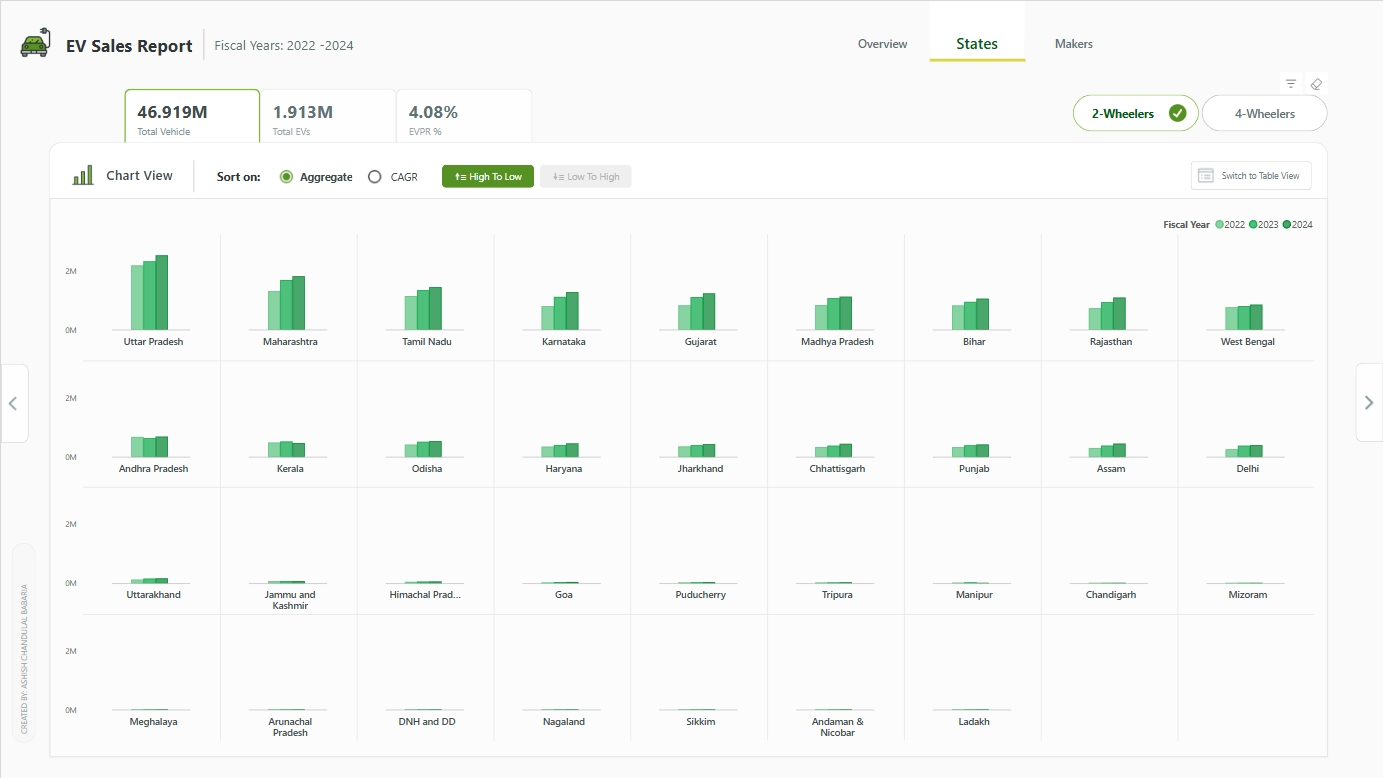

What the dashboard file says about the page in this screenshot:
{"tool":"powerbi","page":{"name":"States-2","canvas":[1920,1080],"ordinal":2},"visuals":[{"type":"advancedSlicerVisual","title":"Slicer :Total Sales/EV Sales/EVPR%","fields":{"Values":["Total Sales/EV Sales/EVPR%.Total Sales/EV Sales/EVPR%"]},"box":[171,116,568,88],"z":0},{"type":"clusteredColumnChart","title":"CAGR Total Vehicles Sold by States","fields":{"Rows":["electric_vehicle_sales_by_state.state"],"Y":["KPIs.CAGR"]},"box":[67,274.3,1776,777.1],"z":0,"group":"g1"},{"type":"shape","title":"Container Frame","box":[66.7,196.7,1776.7,853.3],"z":1000},{"type":"actionButton","title":"Aggregate Radio Button","box":[380,228,112,32],"z":1000,"group":"g1"},{"type":"actionButton","box":[1290,36.3,131.4,48.6],"z":2000},{"type":"actionButton","title":"Aggregate Radio Button","box":[502,228,80,32],"z":2000,"group":"g1"},{"type":"shape","box":[1290,70.6,132.9,24.3],"z":3000},{"type":"shape","box":[1290,0,131.7,45],"z":4000},{"type":"actionButton","title":"Button Next","box":[1882,502.5,38.8,110],"z":5000},{"type":"advancedSlicerVisual","title":"Slicer: Vehicle Category","fields":{"Values":["Dim_Vehicle_type.Decription"]},"box":[1488.3,130,355,51.7],"z":6000},{"type":"actionButton","title":"Button Previous","box":[0,503.3,38.3,110],"z":7000},{"type":"group","id":"g1","title":"CAGR by State Chart ","box":[67,228,1776,823.4],"z":8000},{"type":"advancedSlicerVisual","title":"Slicer: SORT_Order","fields":{"Values":["0201_SORT Order.SORT_Order"]},"box":[612,228,264,32],"z":10000},{"type":"shape","title":"Label :Sort Order","box":[300,218,72,50],"z":11000},{"type":"image","box":[90,218.3,48.3,45],"z":12000},{"type":"shape","box":[146.7,221.7,116.7,40],"z":13000},{"type":"actionButton","box":[1652,222,168,40],"z":14000},{"type":"actionButton","box":[1158.8,33.8,131.2,48.8],"z":15000},{"type":"actionButton","box":[1425.6,33.3,130,48.9],"z":16000},{"type":"actionButton","box":[15,752,33,278],"z":17000},{"type":"shape","box":[261.4,221.2,12.9,44.3],"z":18000},{"type":"shape","box":[90,41.7,185,36.7],"z":19000},{"type":"image","box":[15,31.2,65,51.7],"z":20000},{"type":"shape","box":[296.7,41.7,268.3,36.7],"z":21000},{"type":"shape","box":[275,38.3,13.3,43.3],"z":22000}]}

Visuals, with their boxes in screenshot pixels (x1, y1, x2, y2), scaled from the page's 1920x1080 canvas onto the 1383x778 screenshot:
"Slicer :Total Sales/EV Sales/EVPR%" advancedSlicerVisual: box(123, 84, 532, 147)
"CAGR Total Vehicles Sold by States" clusteredColumnChart: box(48, 198, 1328, 757)
"Container Frame" shape: box(48, 142, 1328, 756)
"Aggregate Radio Button" actionButton: box(274, 164, 354, 187)
actionButton: box(929, 26, 1024, 61)
"Aggregate Radio Button" actionButton: box(362, 164, 419, 187)
shape: box(929, 51, 1025, 68)
shape: box(929, 0, 1024, 32)
"Button Next" actionButton: box(1356, 362, 1382, 441)
"Slicer: Vehicle Category" advancedSlicerVisual: box(1072, 94, 1328, 131)
"Button Previous" actionButton: box(0, 363, 28, 442)
"CAGR by State Chart " group: box(48, 164, 1328, 757)
"Slicer: SORT_Order" advancedSlicerVisual: box(441, 164, 631, 187)
"Label :Sort Order" shape: box(216, 157, 268, 193)
image: box(65, 157, 100, 190)
shape: box(106, 160, 190, 189)
actionButton: box(1190, 160, 1311, 189)
actionButton: box(835, 24, 929, 60)
actionButton: box(1027, 24, 1121, 59)
actionButton: box(11, 542, 35, 742)
shape: box(188, 159, 198, 191)
shape: box(65, 30, 198, 56)
image: box(11, 22, 58, 60)
shape: box(214, 30, 407, 56)
shape: box(198, 28, 208, 59)
